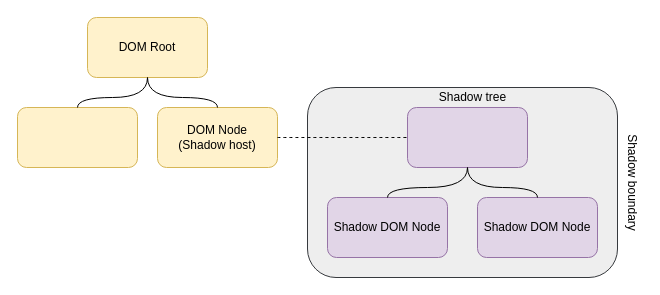
Some shapes in this 660 by 295 pixel diagram are drawn without their labels. The centre of each missing label's shape, as x and y in pixels:
"DOM Node" goes at (x=77, y=137).
"Shadow root" goes at (x=467, y=137).
